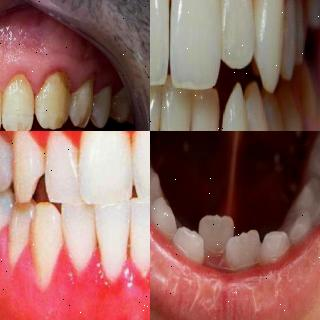Gum Swelling: (0, 48, 123, 96)
maligned: (52, 192, 101, 281), (24, 198, 62, 294), (194, 204, 235, 272), (121, 193, 150, 275), (222, 228, 260, 288), (215, 83, 253, 131), (128, 131, 150, 203), (84, 131, 124, 159)
